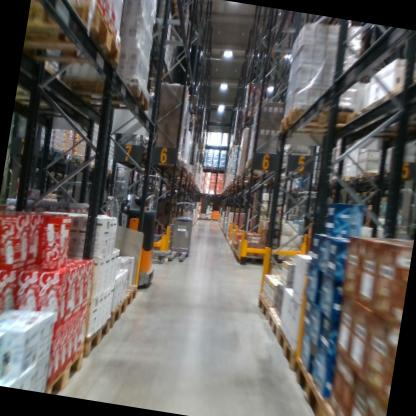pallet: (50, 60, 159, 132), (23, 0, 130, 67), (271, 93, 354, 152), (13, 56, 82, 125), (351, 97, 416, 157), (42, 334, 89, 398), (287, 352, 332, 416), (78, 307, 115, 368), (271, 321, 302, 372), (105, 291, 129, 335), (262, 302, 286, 346), (242, 151, 281, 178), (156, 0, 195, 26), (317, 396, 360, 416), (252, 290, 274, 328), (118, 284, 140, 321), (354, 167, 387, 190), (233, 170, 265, 186), (335, 169, 357, 188), (241, 102, 261, 119), (328, 171, 341, 185)
pallet_truck: (83, 143, 180, 294)
